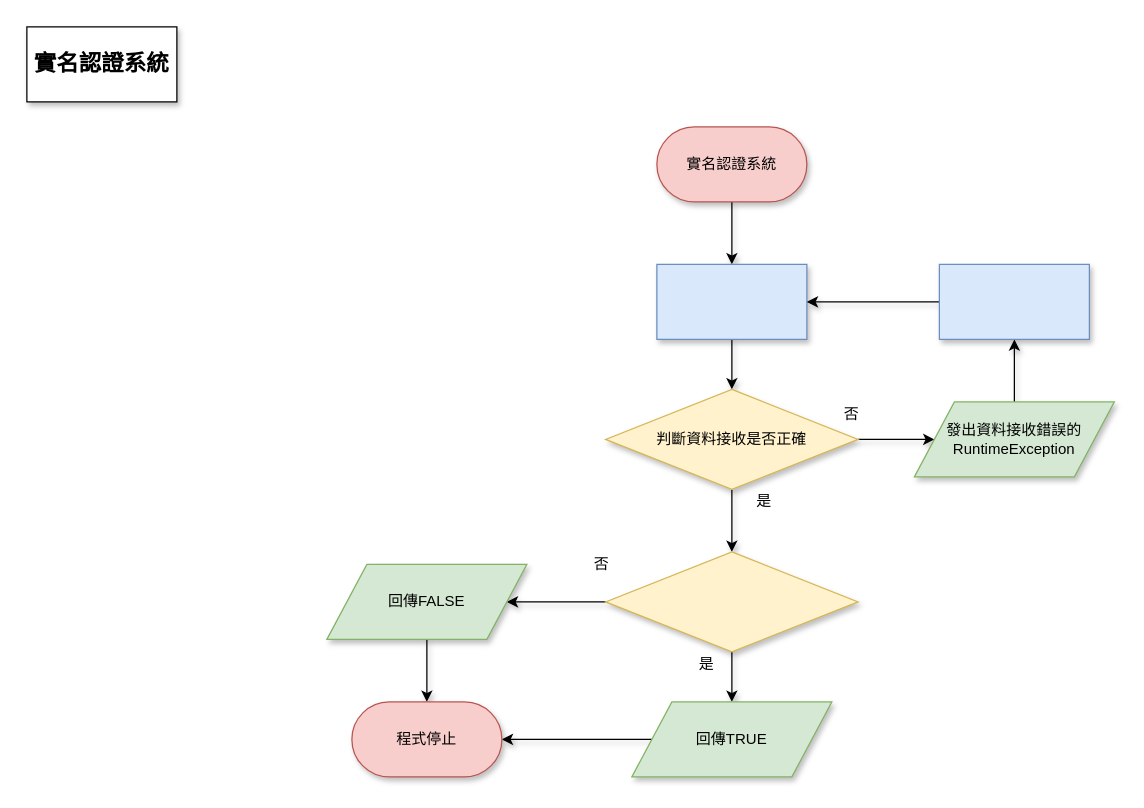
This 1144x808 diagram has some shape labels left out. The centre of each missing label's shape, as x and y in pixels:
接收資料: (x=732, y=303)
重新要求資料: (x=1015, y=303)
驗證是否為實名: (x=732, y=603)
